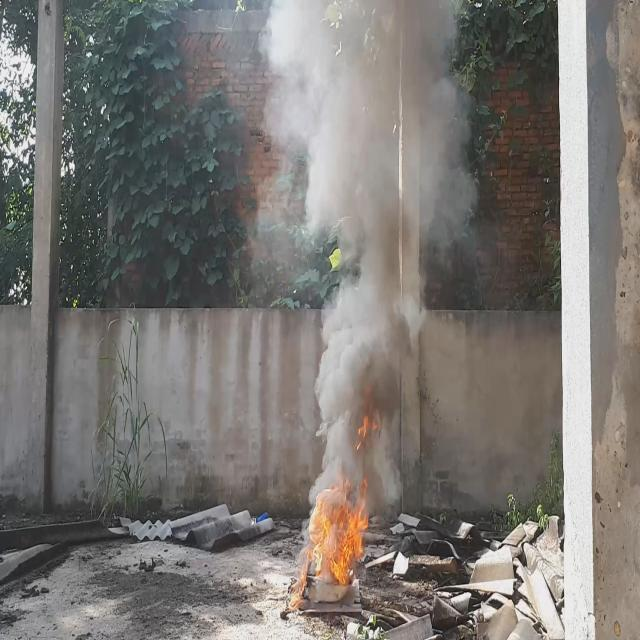Fire: (309, 474, 374, 586)
Smoke: (249, 0, 477, 515)
